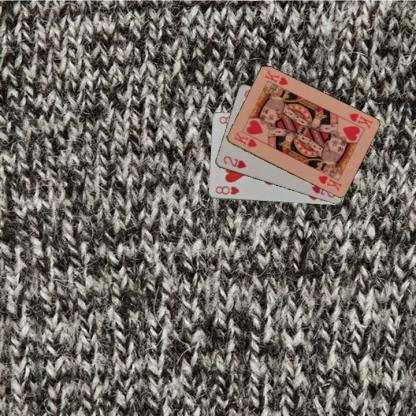2h: (221, 154, 247, 170)
8h: (213, 183, 240, 197)
Kh: (345, 110, 374, 130), (231, 130, 258, 148)
